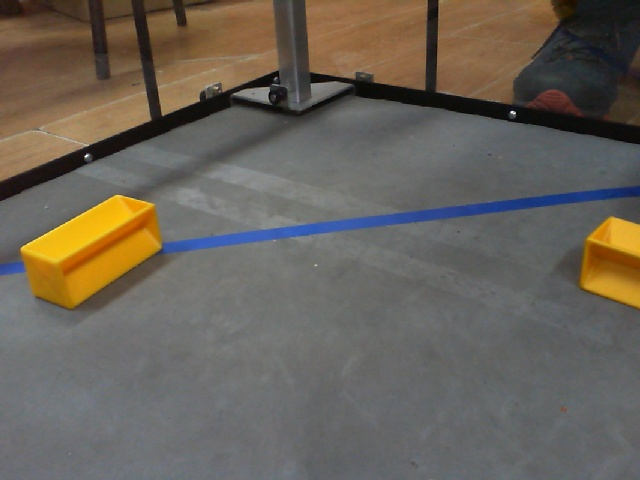YellowSample: (12, 195, 173, 309), (573, 214, 640, 308)
